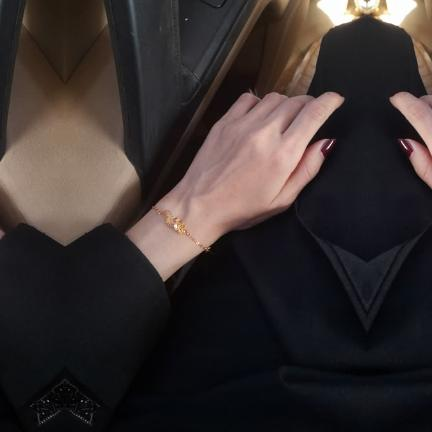Nail: (319, 139, 335, 159), (398, 139, 414, 159)
